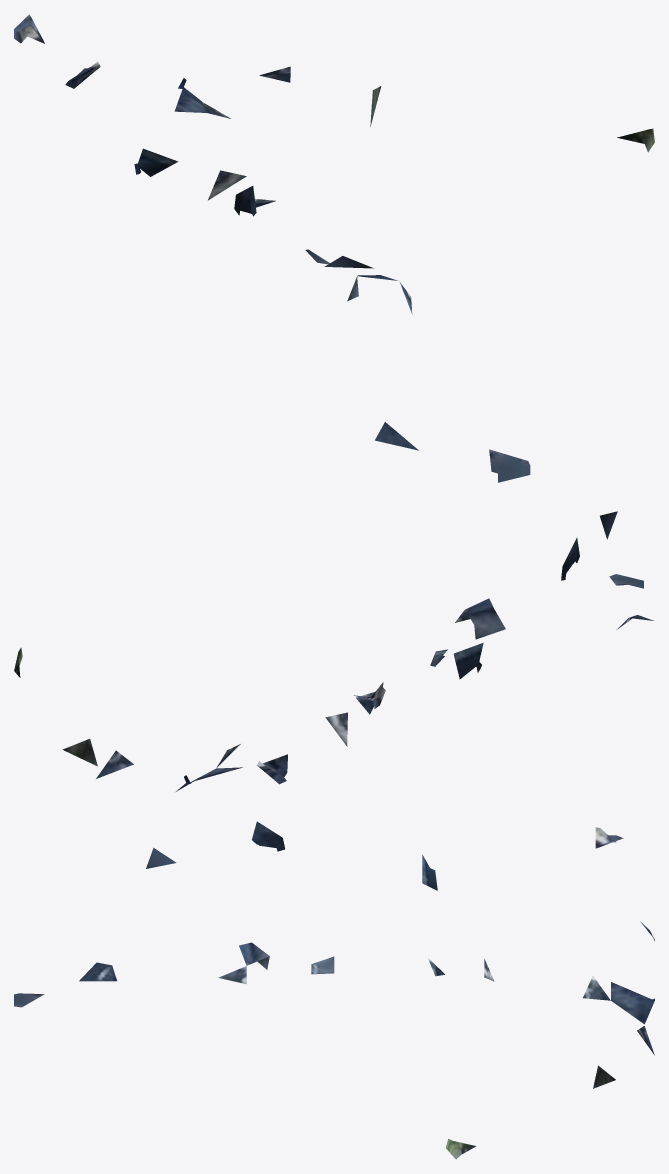
3 renders of one model, top to bottom at view 1: azimuth 30°, elevation 25°; view 2: azimuth 150°, elevation 25°; view 3: azimuth 270°, elevation 25°, orthographic. The views are drawn at different scales.
Visible parts, largest first — view 1: 30436272704361517730_1; view 2: 30436272704361517730_1; view 3: 30436272704361517730_1.
Part boxes in pixels (x1=…): 30436272704361517730_1: x1=14, y1=14, x2=654, y2=482; 30436272704361517730_1: x1=14, y1=511, x2=653, y2=791; 30436272704361517730_1: x1=14, y1=821, x2=654, y2=1159.
Bounding box in the file's own units: 27.31 × 9.86 × 38.26.
Materials: 1 (1 with a texture image).
